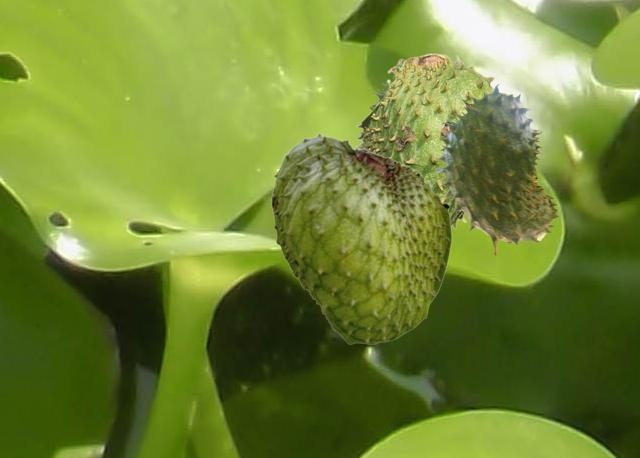guyabano: (271, 131, 451, 344), (353, 53, 495, 229), (435, 84, 558, 256)
